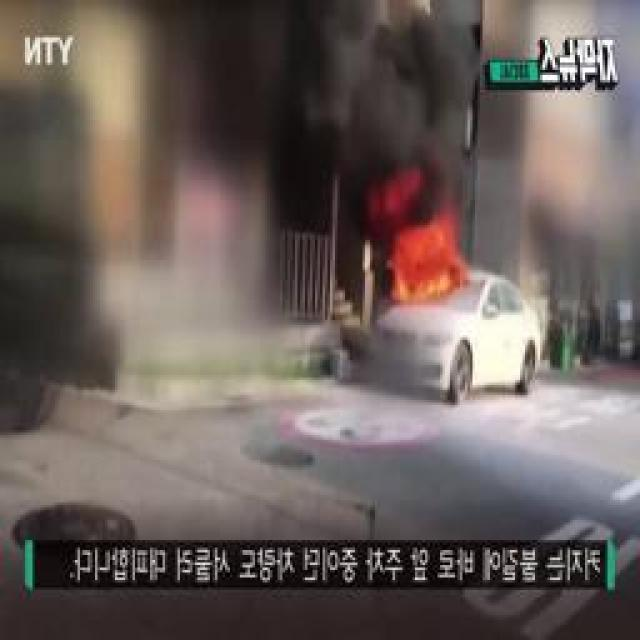Fire: (380, 216, 468, 305)
